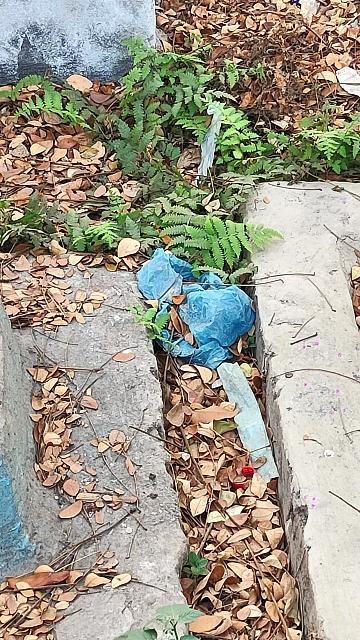polythene: (134, 245, 258, 367)
